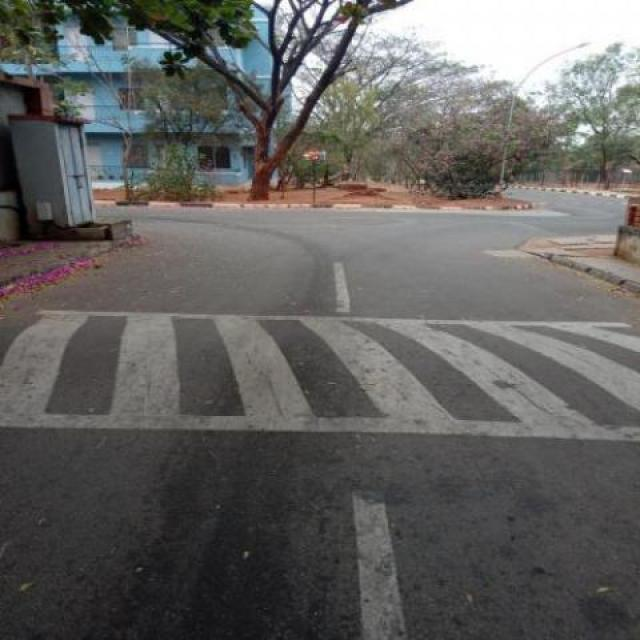Speed Bump: (1, 311, 640, 442)
